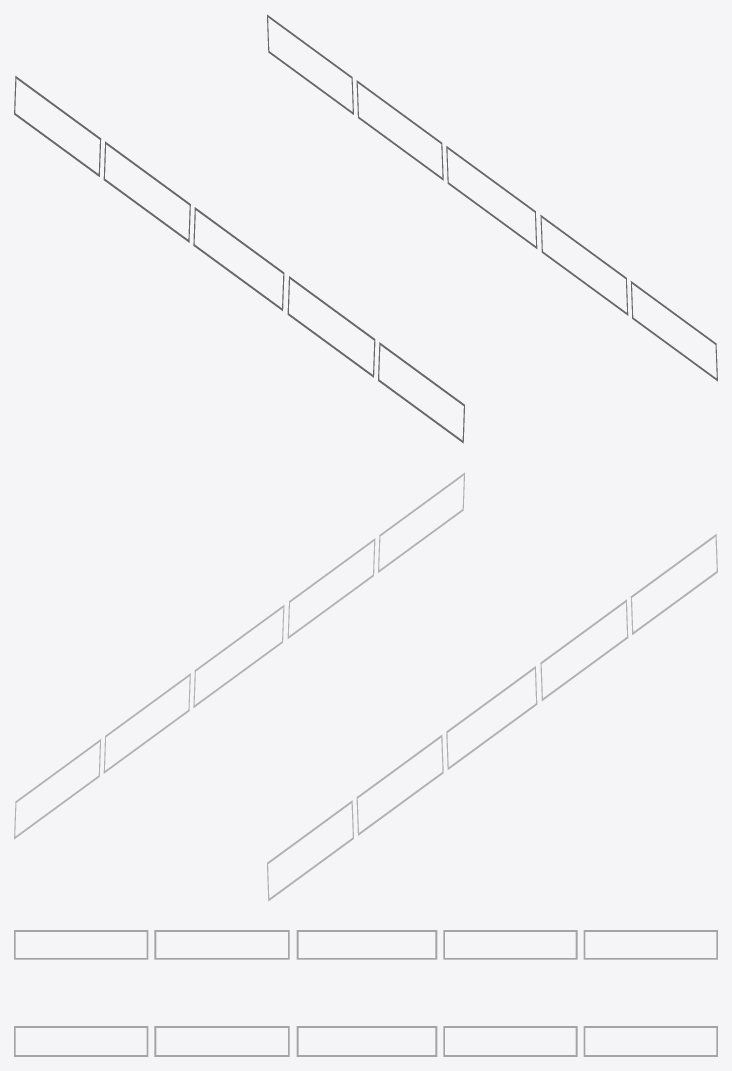
3 renders of one model, top to bottom at view 1: azimuth 30°, elevation 25°; view 2: azimuth 150°, elevation 25°; view 3: azimuth 270°, elevation 25°, orthographic. The views are drawn at different scales.
Bounding box in the file's own units: 2.27 × 0.33 × 6.97.
Materials: 1 (1 with a texture image).
